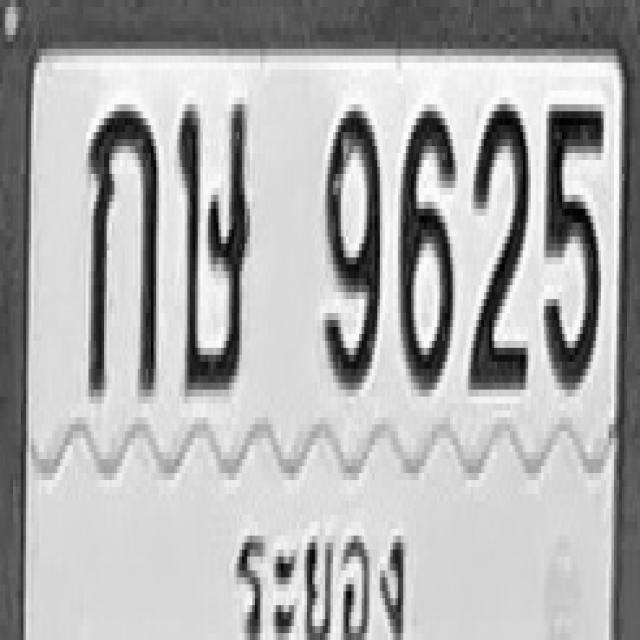10GorGai: (86, 101, 159, 393)
2: (468, 98, 528, 390)
48SorRueSi: (177, 94, 250, 393)
5: (544, 98, 604, 390)
6: (398, 104, 455, 390)
9: (322, 104, 380, 390)
Rayong: (223, 494, 414, 640)
